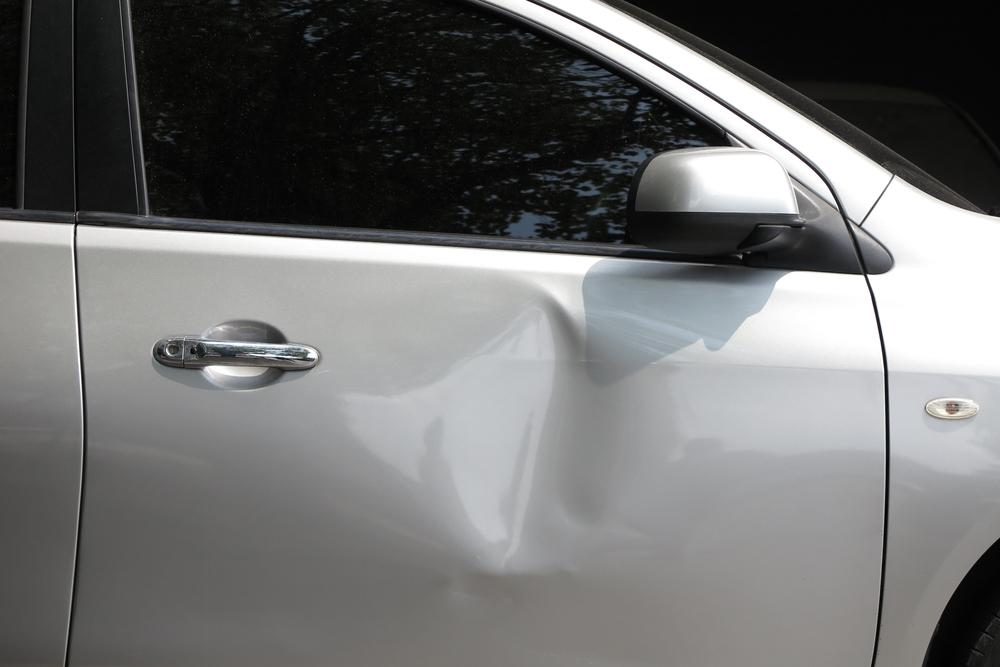dent: (433, 277, 632, 575)
